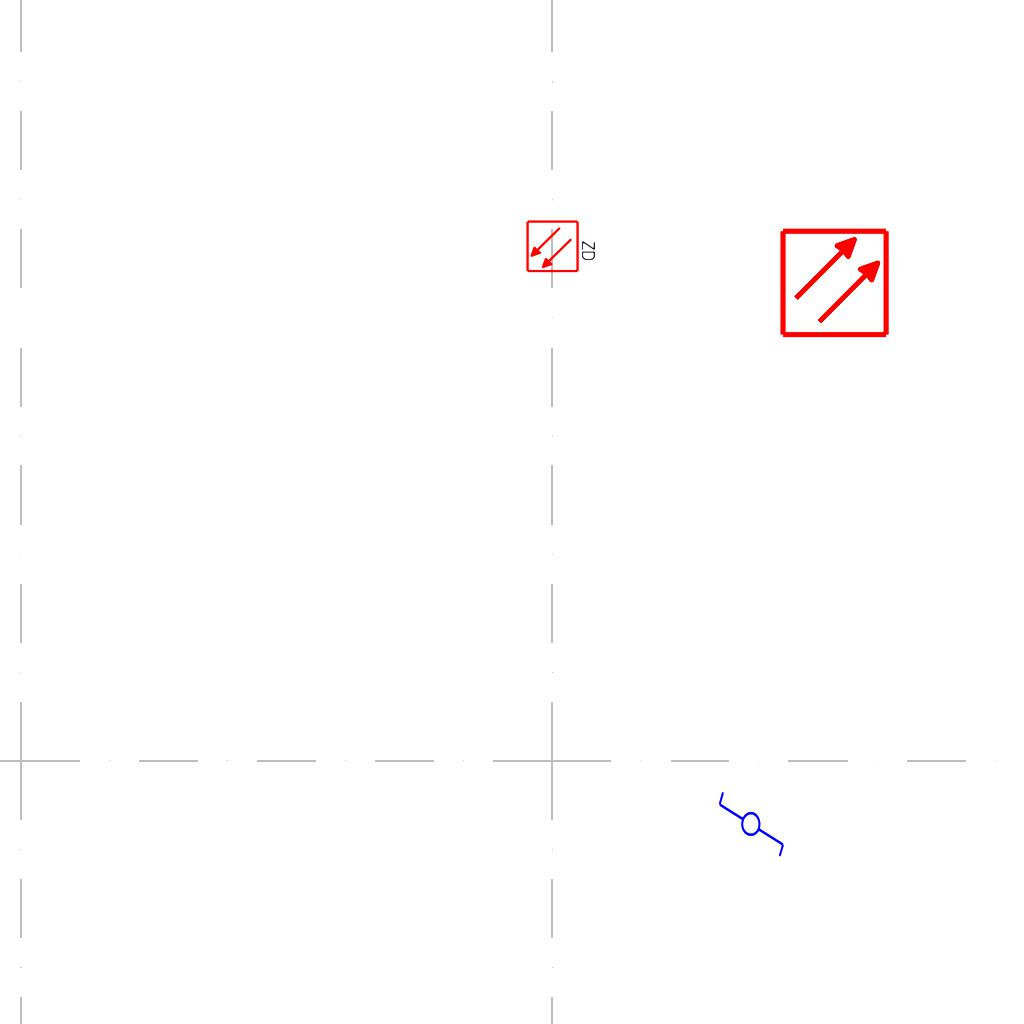RMO_Rauchmelder_optischer: (778, 226, 891, 339)
Wechselschalter: (716, 781, 788, 859)
ZD_Melder_in_Zwischendecke_mit_Revisionsoeffnung_mind_40_x_40_cm: (525, 217, 599, 274)
